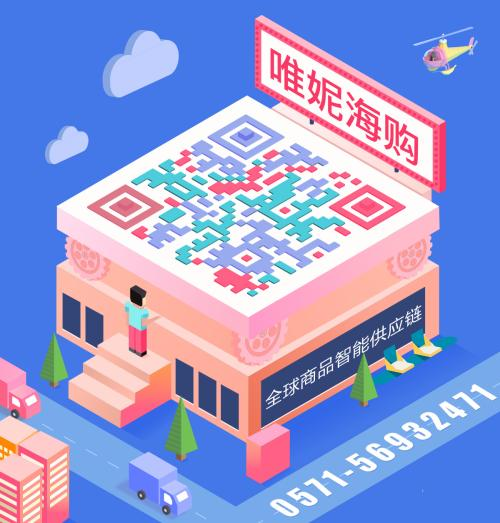QRCode: (90, 113, 413, 303)
